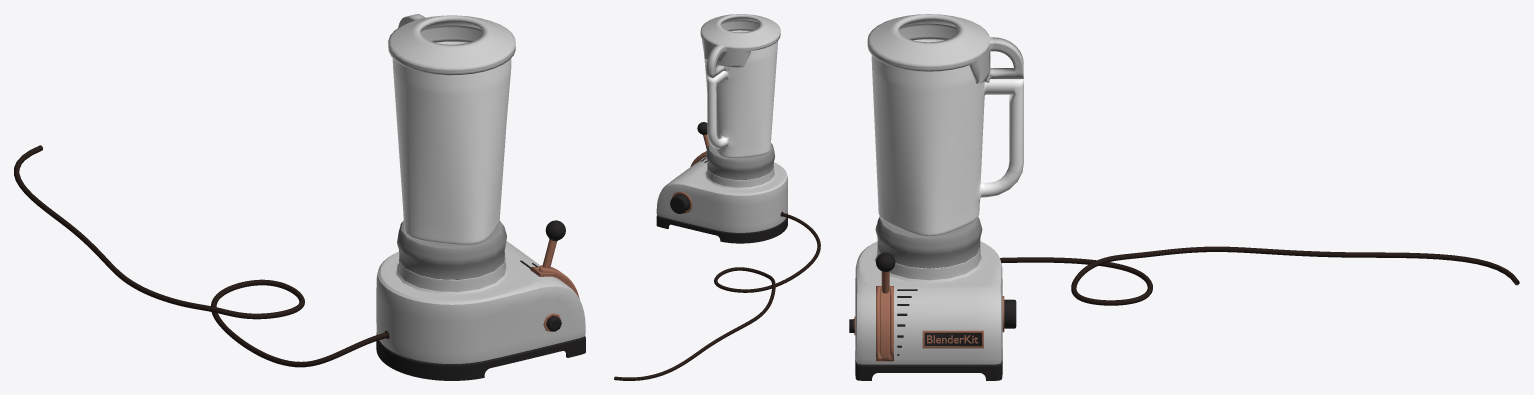
Rendered from Blender.fbx.
3 views of the same model, side by side, from view 1: azimuth 30°, elevation 25°; view 2: azimuth 150°, elevation 25°; view 3: azimuth 270°, elevation 25° (orthographic). The views are drawn at different scales.
Visible parts, largest first — view 1: Cube, Cylinder, Cylinder.005, NurbsCurve, Cube.002, Cylinder.003; view 2: Cube, Cylinder, Cylinder.005, NurbsCurve, Cube.002, Cylinder.002; view 3: Cylinder, Cube, Cylinder.005, NurbsCurve, Cube.002, Cube.009, Cube.007, Cube.006.
Part boxes in pixels (left/top/right/bottom): Cube: left=376, top=220, right=585, bottom=363; Cylinder: left=392, top=41, right=511, bottom=244; Cylinder.005: left=388, top=14, right=515, bottom=75; NurbsCurve: left=14, top=145, right=387, bottom=367; Cube.002: left=376, top=332, right=585, bottom=380; Cylinder.003: left=542, top=220, right=565, bottom=268; Cube: left=656, top=143, right=787, bottom=232; Cylinder: left=704, top=30, right=777, bottom=157; Cylinder.005: left=700, top=14, right=780, bottom=77; NurbsCurve: left=614, top=212, right=820, bottom=380; Cube.002: left=656, top=213, right=787, bottom=243; Cylinder.002: left=670, top=191, right=692, bottom=213; Cylinder: left=871, top=39, right=1023, bottom=236; Cube: left=855, top=216, right=1002, bottom=364; Cylinder.005: left=867, top=14, right=1023, bottom=84; NurbsCurve: left=1000, top=246, right=1519, bottom=305; Cube.002: left=855, top=349, right=1002, bottom=380; Cube.009: left=922, top=330, right=983, bottom=348; Cube.007: left=880, top=287, right=889, bottom=358; Cube.006: left=876, top=286, right=893, bottom=361.
Size of the model in its own units: 34.2 by 36.73 by 72.99.
